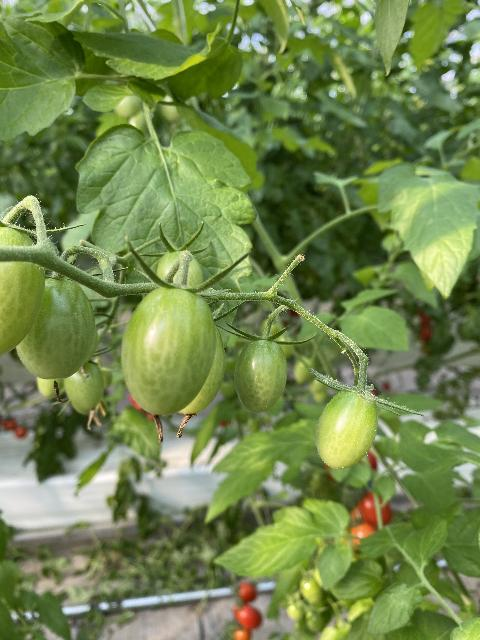l_green: (120, 285, 217, 417), (15, 276, 97, 379), (0, 227, 46, 356), (316, 388, 378, 469), (176, 323, 226, 415), (233, 337, 287, 413), (157, 250, 203, 293), (64, 362, 105, 410)
